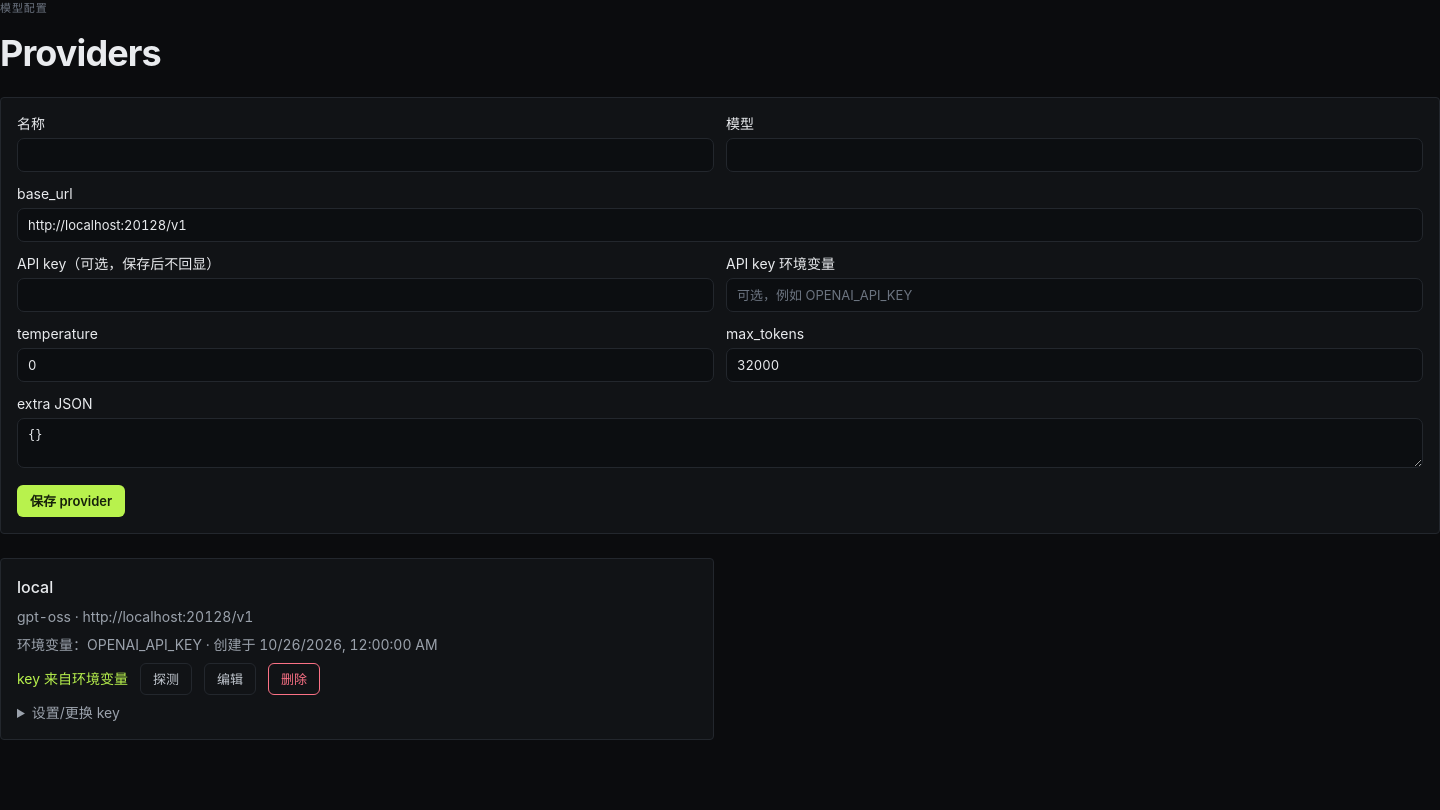
Test: ProvidersView edit & delete › 保存成功后关闭编辑表单；取消也不发请求
Click the button with test id "provider-edit": [230, 679] box x1=204 y1=663 x2=256 y2=695
(page scrolled)
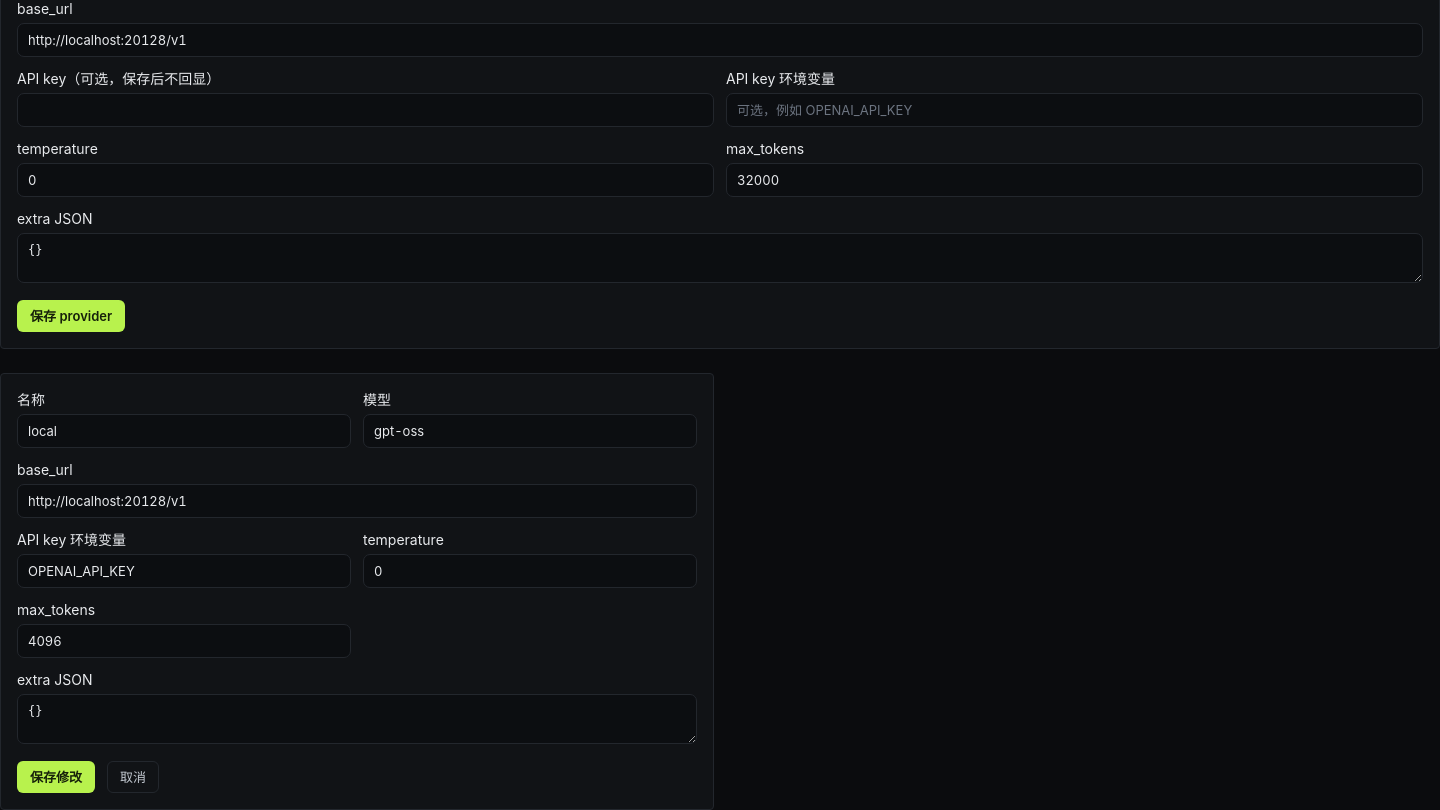
Click the button "取消": [133, 777] box x1=107 y1=761 x2=159 y2=793
(page scrolled)
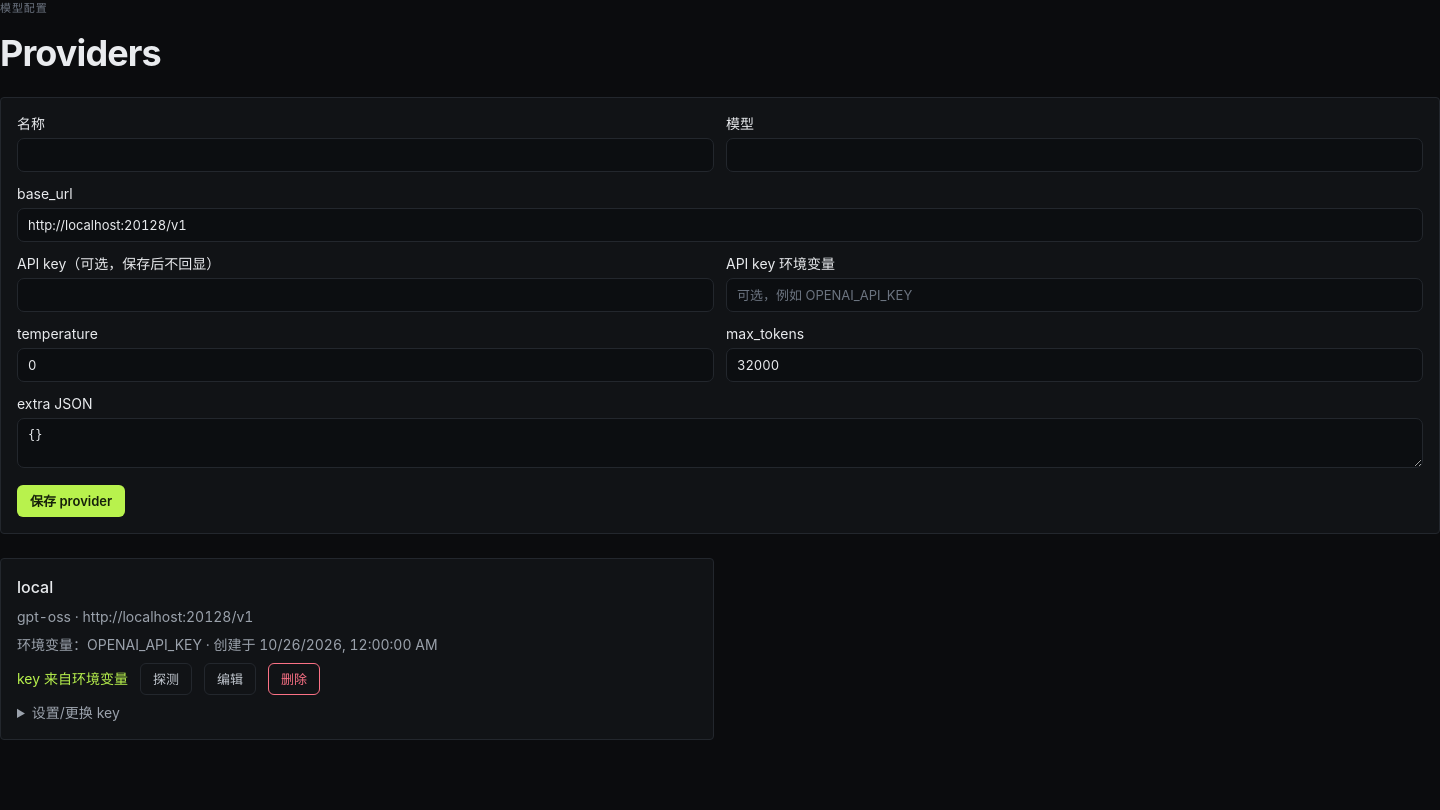
Expected: the form with test id "provider-edit-form" is gone
Click the button with test id "provider-edit": [230, 679] box x1=204 y1=663 x2=256 y2=695
(page scrolled)
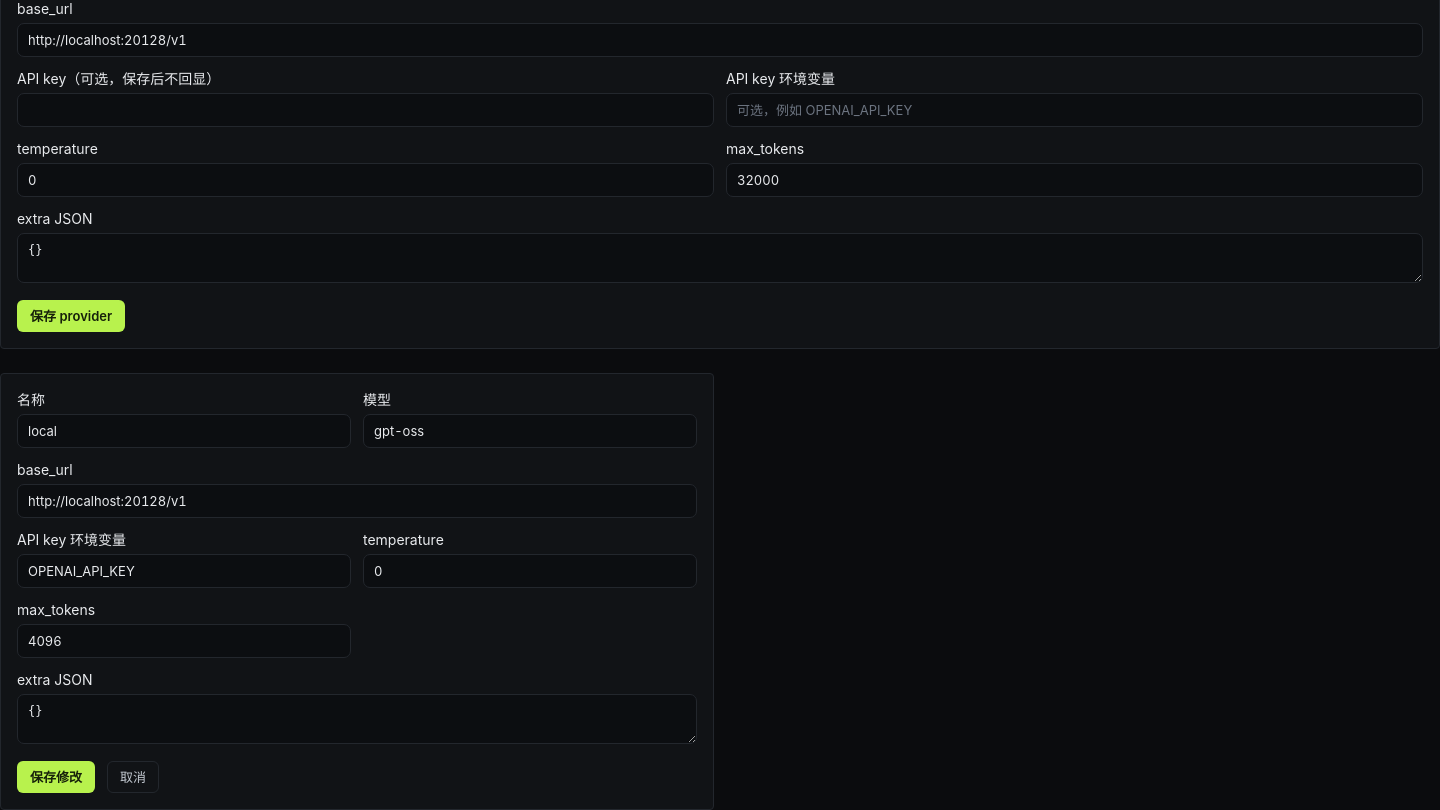
Click the button "保存修改": [56, 777] box x1=17 y1=761 x2=95 y2=793
(page scrolled)
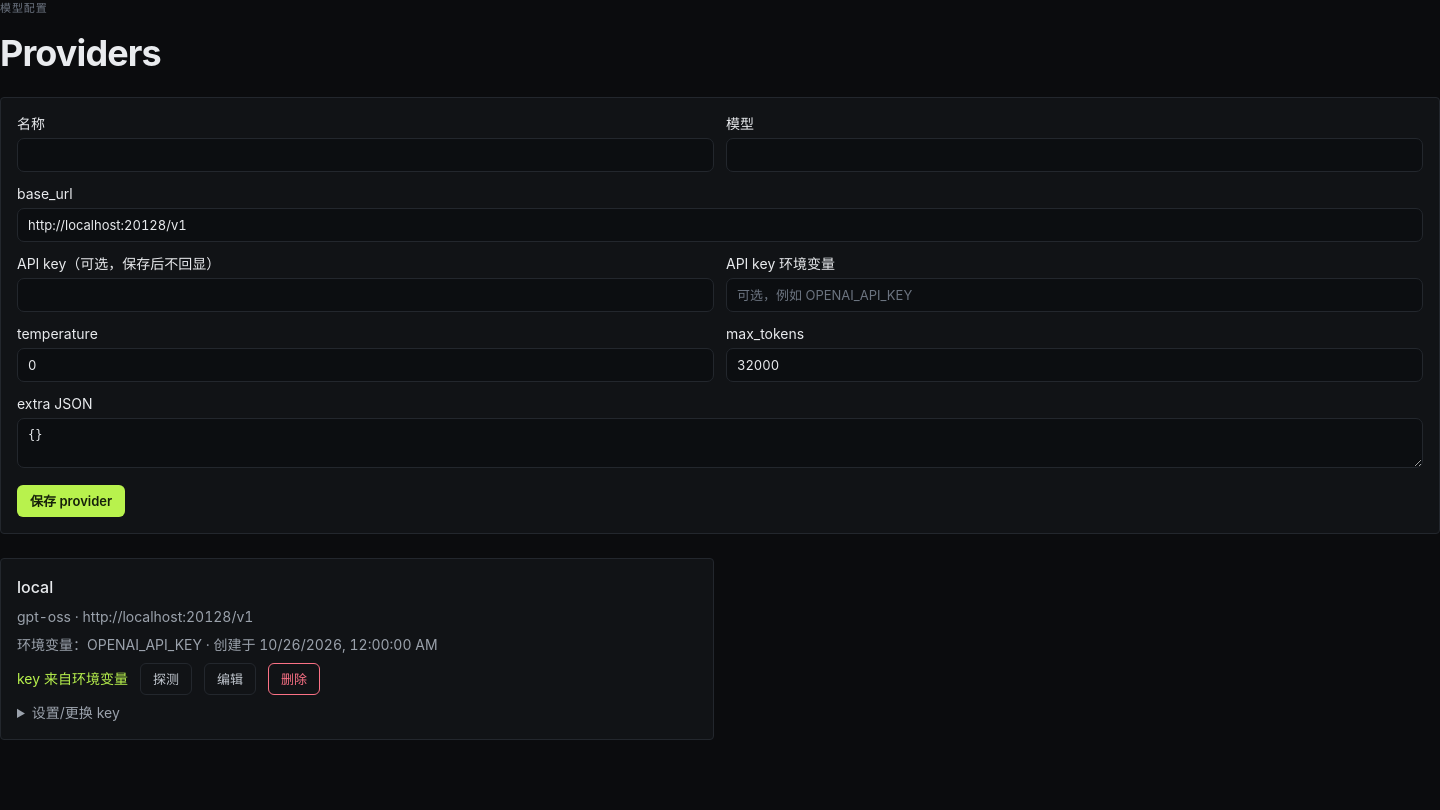
Expected: the form with test id "provider-edit-form" is gone
